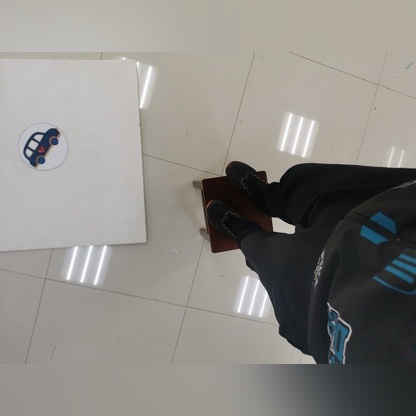car: (16, 123, 72, 167)
